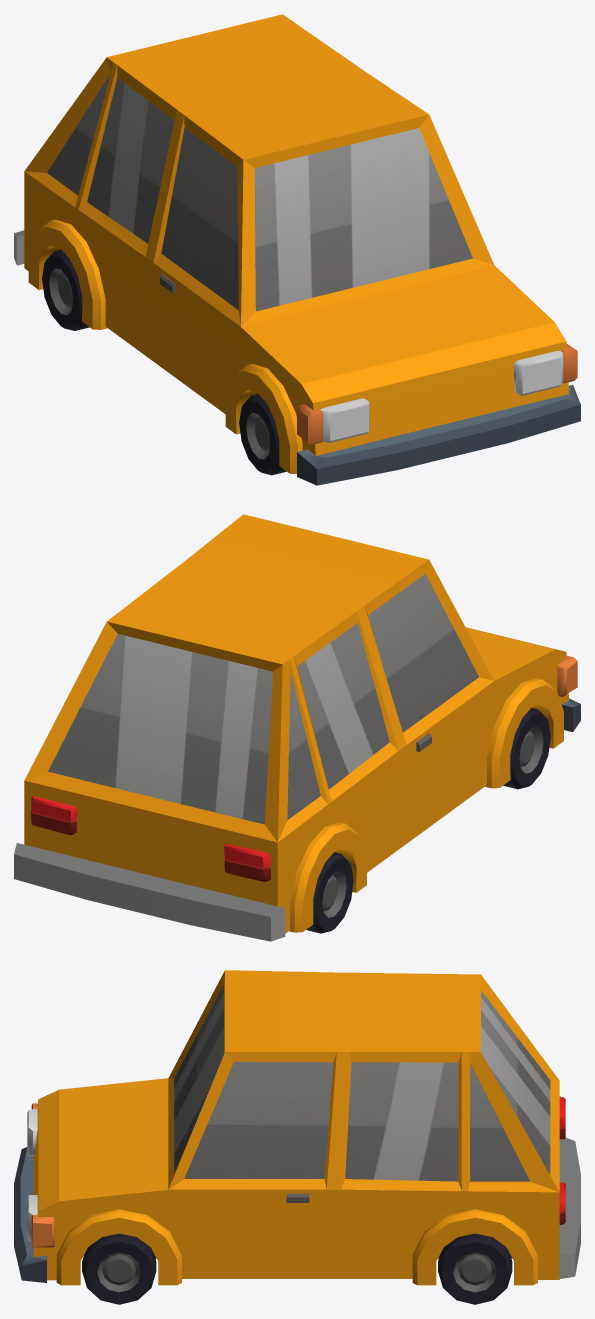
The model's file is Car_1_21.glb.
3 views of the same model, one above another, from view 1: azimuth 30°, elevation 25°; view 2: azimuth 150°, elevation 25°; view 3: azimuth 270°, elevation 25° (orthographic). The views are drawn at different scales.
Parts seen in each view (by area): view 1: Car_1_21, Wheel_Br, Wheel_Fr; view 2: Car_1_21, Wheel_Fr, Wheel_Br; view 3: Car_1_21, Wheel_Bl, Wheel_Fl.
Part boxes in pixels (x1,y1,x2,y2): Car_1_21: (14, 14, 580, 485); Wheel_Br: (42, 249, 89, 330); Wheel_Fr: (239, 394, 286, 475); Car_1_21: (14, 514, 580, 941); Wheel_Fr: (503, 708, 550, 789); Wheel_Br: (306, 852, 353, 933); Car_1_21: (14, 970, 580, 1285); Wheel_Bl: (438, 1233, 512, 1304); Wheel_Fl: (82, 1233, 156, 1304).
Size of the model in its own units: 1.05 by 0.9433 by 2.06.
4 materials, 4 textured.
